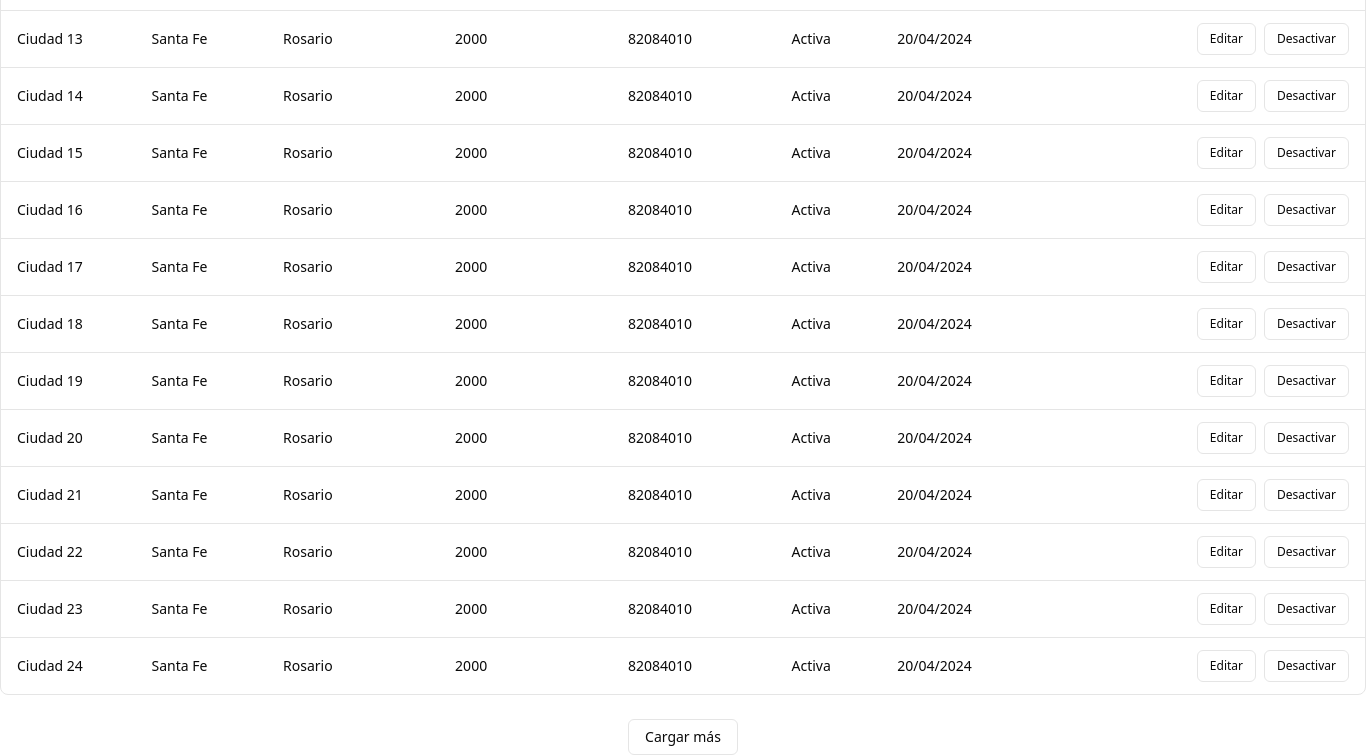
Scenario: CitiesScreen (core geography, system administrator) › loads more pages while the server keeps returning full pages
(page scrolled)
Click the button "Cargar más".
click(683, 737)  # box [628,719,738,754]
(page scrolled)
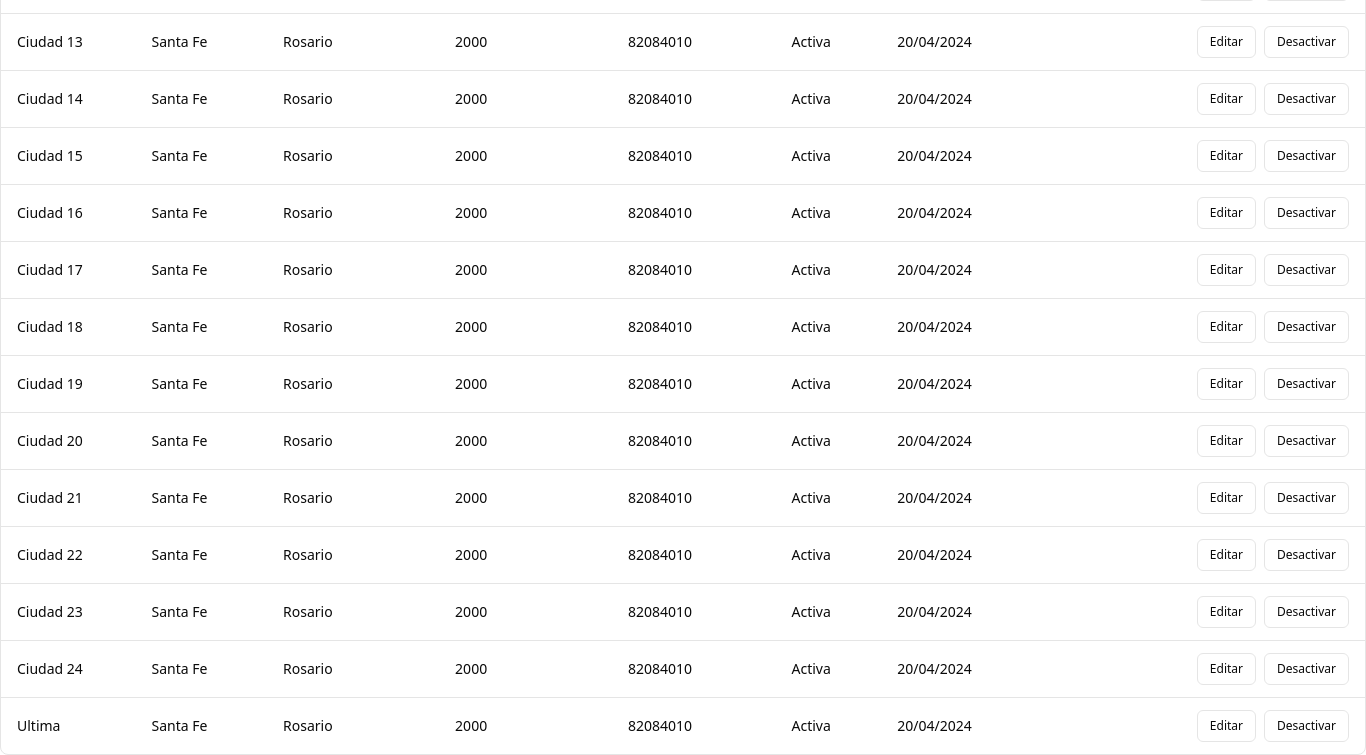
Expected: the text "Ciudad 24" is shown, [1,640,136,698]
Result: the text "Ultima" is shown at [1,698,136,754]
Result: the button "Cargar más" is gone
